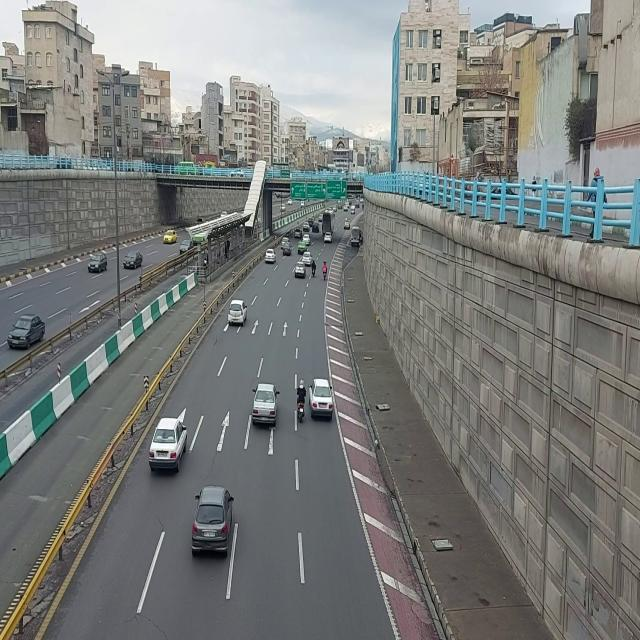Bus: (322, 209, 336, 235)
Car: (192, 484, 235, 560), (149, 416, 188, 476), (7, 314, 46, 351), (252, 382, 280, 428), (308, 378, 334, 422), (228, 299, 248, 327), (87, 251, 107, 273), (123, 251, 143, 271), (180, 239, 194, 255), (295, 261, 307, 279), (163, 230, 177, 245), (265, 248, 277, 265), (230, 168, 246, 178), (302, 252, 313, 266), (283, 243, 293, 257), (297, 241, 307, 255), (303, 233, 312, 245), (324, 232, 333, 244), (312, 221, 320, 233), (294, 228, 302, 239), (303, 222, 310, 232), (280, 204, 286, 212), (332, 205, 338, 212), (288, 199, 294, 206), (338, 203, 343, 211), (344, 206, 348, 212)
Motorcycle: (296, 378, 308, 424), (322, 260, 328, 280), (311, 258, 317, 278)
Pickup: (343, 218, 351, 230), (351, 206, 356, 215)
